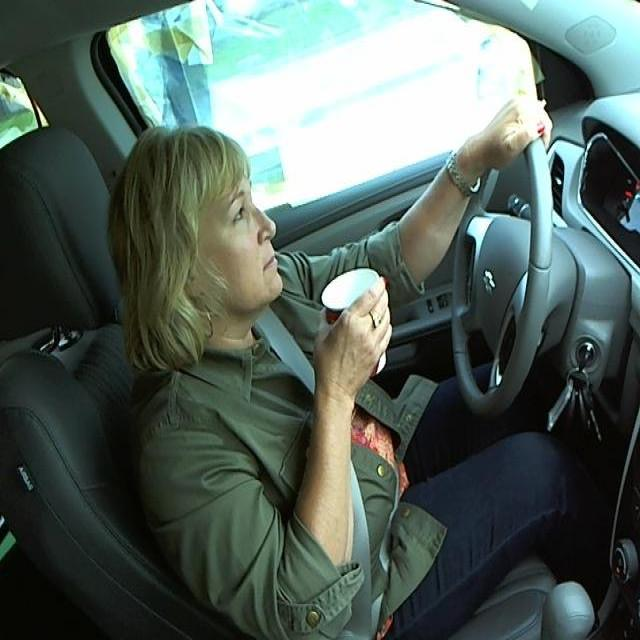drinking: (319, 264, 390, 375)
